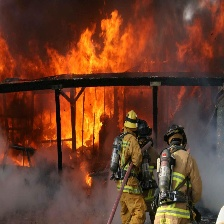fire: (51, 12, 122, 160), (9, 132, 41, 168), (81, 168, 95, 191)
